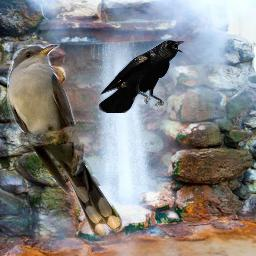Crow: (99, 39, 185, 113)
Cuckoo: (7, 44, 122, 236)
